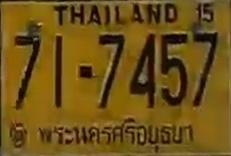1: (54, 34, 62, 106)
4: (129, 33, 156, 108)
5: (160, 33, 188, 105)
7: (98, 34, 124, 108), (192, 32, 218, 106), (14, 35, 40, 107)
AYA: (36, 113, 197, 153)
